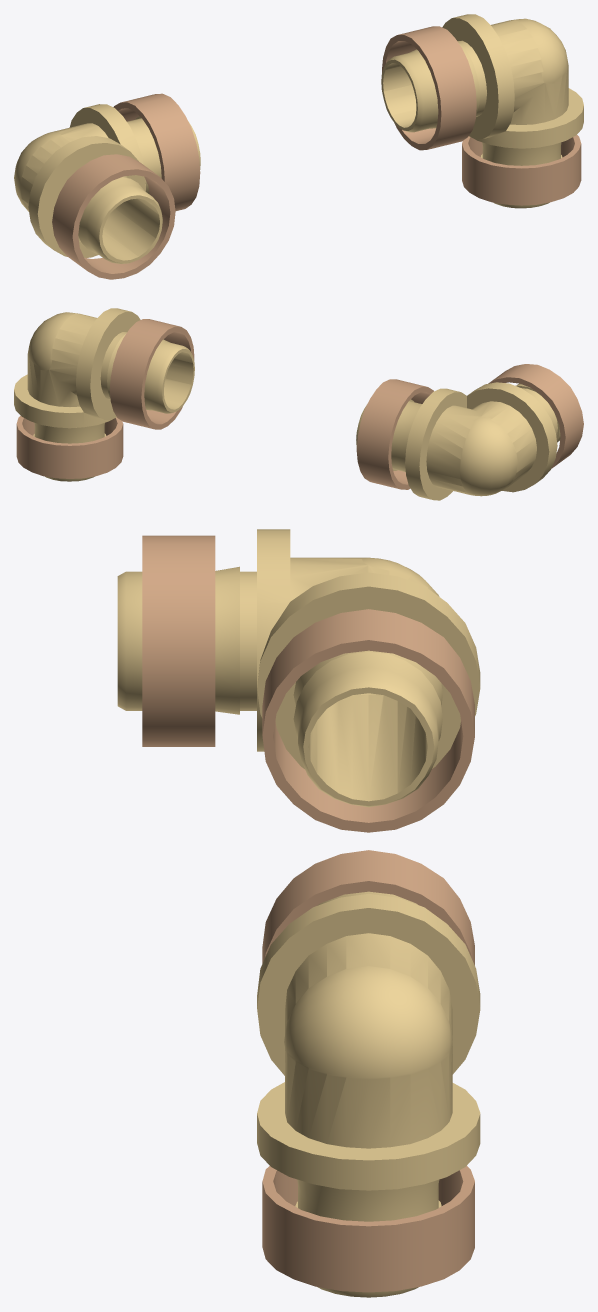
Rendered from slab_pipes_supply__plumbing-pex+attic_repipe.glb.
3 views of the same model, one above another, from view 1: azimuth 30°, elevation 25°; view 2: azimuth 150°, elevation 25°; view 3: azimuth 270°, elevation 25° (orthographic). The views are drawn at different scales.
Visible parts, largest first — view 1: fit_pexelbow_pipe_supply_manifold_feed__pex_0, fit_pexelbow_pipe_supply_manifold_feed__pex_1; view 2: fit_pexelbow_pipe_supply_manifold_feed__pex_0, fit_pexelbow_pipe_supply_manifold_feed__pex_1; view 3: fit_pexelbow_pipe_supply_manifold_feed__pex_0, fit_pexelbow_pipe_supply_manifold_feed__pex_1.
Boxes of the visible parts, left/top/right/bottom form: fit_pexelbow_pipe_supply_manifold_feed__pex_0: left=381, top=14, right=583, bottom=208; fit_pexelbow_pipe_supply_manifold_feed__pex_1: left=14, top=93, right=200, bottom=279; fit_pexelbow_pipe_supply_manifold_feed__pex_0: left=14, top=308, right=194, bottom=481; fit_pexelbow_pipe_supply_manifold_feed__pex_1: left=356, top=364, right=583, bottom=500; fit_pexelbow_pipe_supply_manifold_feed__pex_0: left=257, top=850, right=480, bottom=1297; fit_pexelbow_pipe_supply_manifold_feed__pex_1: left=117, top=529, right=480, bottom=832.
Bounding box in the file's own units: 0.1334 × 0.0413 × 0.0413.
